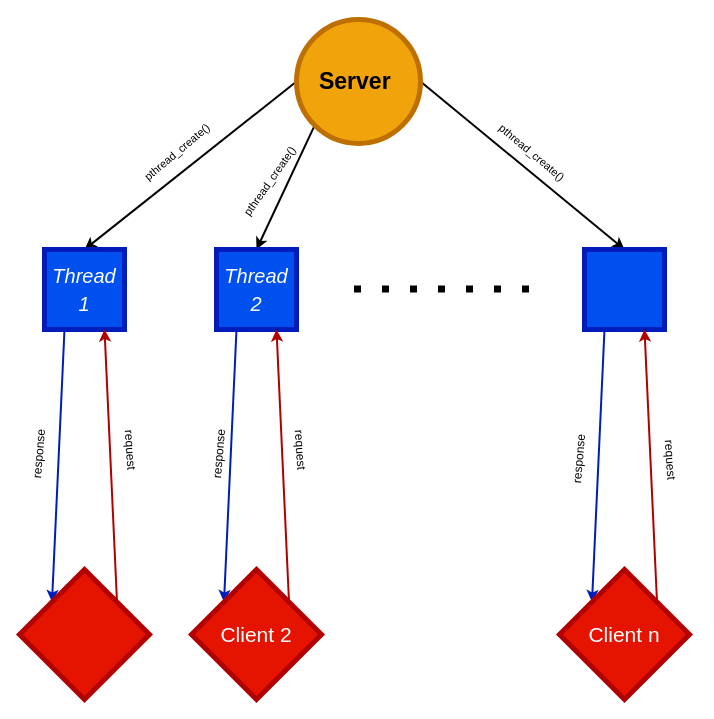
Image size: 714x719. Some labels were removed from this diagram. The centre of each missing label's shape, as x and y in pixels:
Client 1: (84,634)
Thread n: (624,289)
